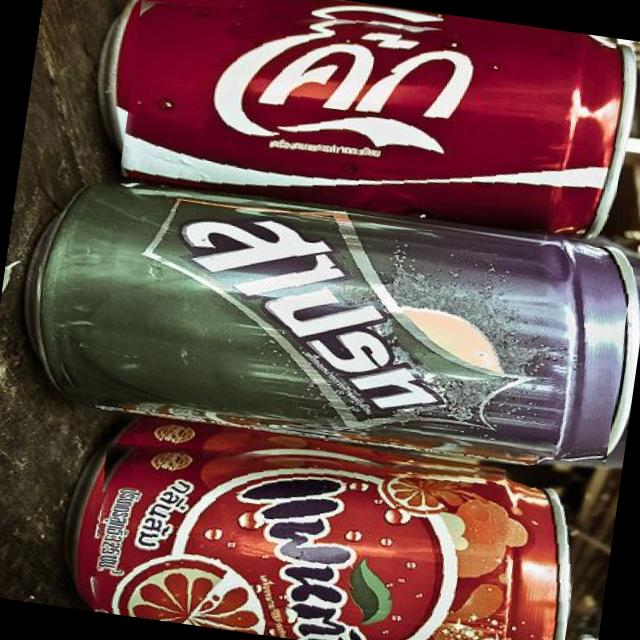Cans: (43, 181, 633, 466), (116, 0, 636, 244), (82, 410, 586, 640)
